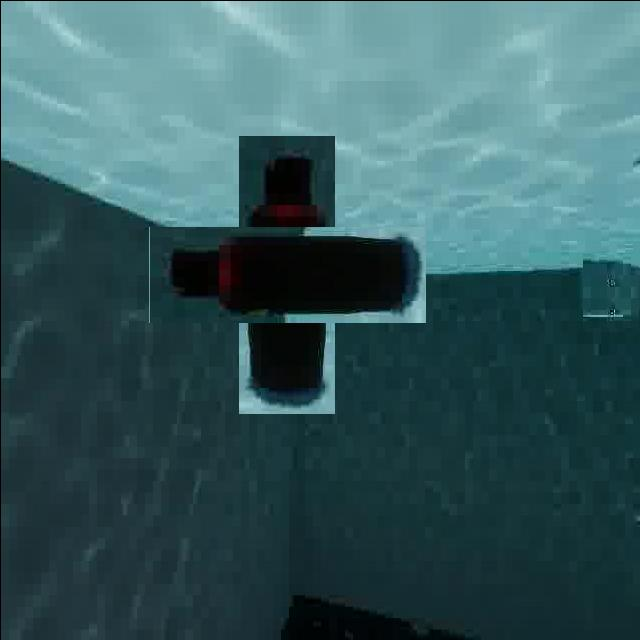Cylinder: (192, 180, 380, 367)
Docking Station: (582, 252, 640, 327)
